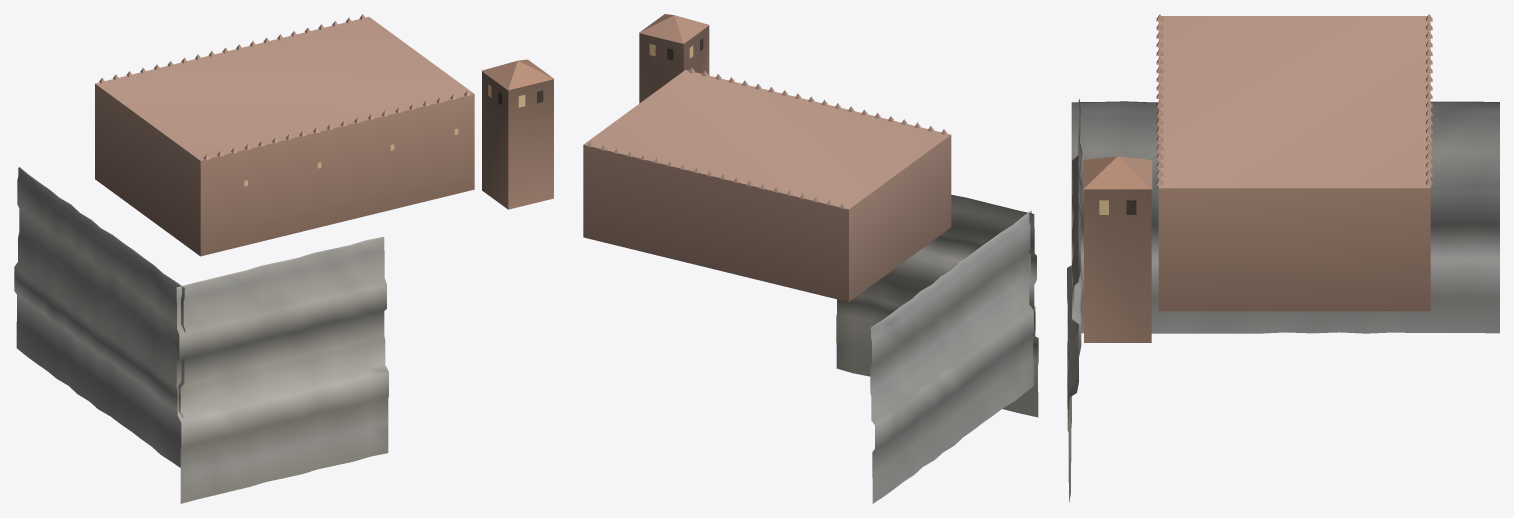
The model's file is palace.glb.
3 renders of one model, left to right at view 1: azimuth 30°, elevation 25°; view 2: azimuth 150°, elevation 25°; view 3: azimuth 270°, elevation 25°, orthographic. The views are drawn at different scales.
Parts seen in each view (by area): view 1: mass_palace.001, palace_scarp_s, palace_scarp_w, mass_mirador.001; view 2: mass_palace.001, palace_scarp_w, palace_scarp_s, mass_mirador.001; view 3: mass_palace.001, palace_scarp_w, mass_mirador.001, palace_scarp_s.
Boxes of the visible parts, x1,y1,x2,y2 form: mass_palace.001: [95, 14, 474, 256]; palace_scarp_s: [176, 236, 388, 503]; palace_scarp_w: [14, 167, 185, 467]; mass_mirador.001: [481, 59, 553, 209]; mass_palace.001: [583, 67, 951, 301]; palace_scarp_w: [870, 210, 1035, 503]; palace_scarp_s: [836, 195, 1038, 417]; mass_mirador.001: [639, 14, 709, 103]; mass_palace.001: [1156, 14, 1432, 311]; palace_scarp_w: [1071, 101, 1499, 333]; mass_mirador.001: [1083, 156, 1152, 342]; palace_scarp_s: [1067, 99, 1082, 502].
Size of the model in its own units: 83.18 by 71.6 by 63.67.
